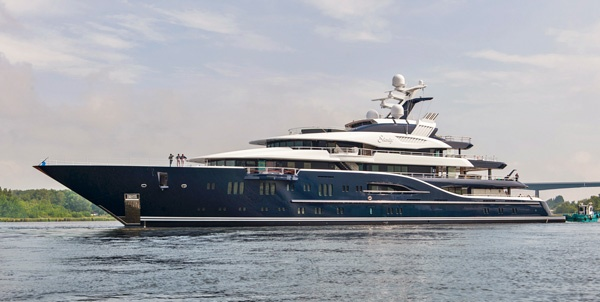yacht: (29, 70, 560, 237)
